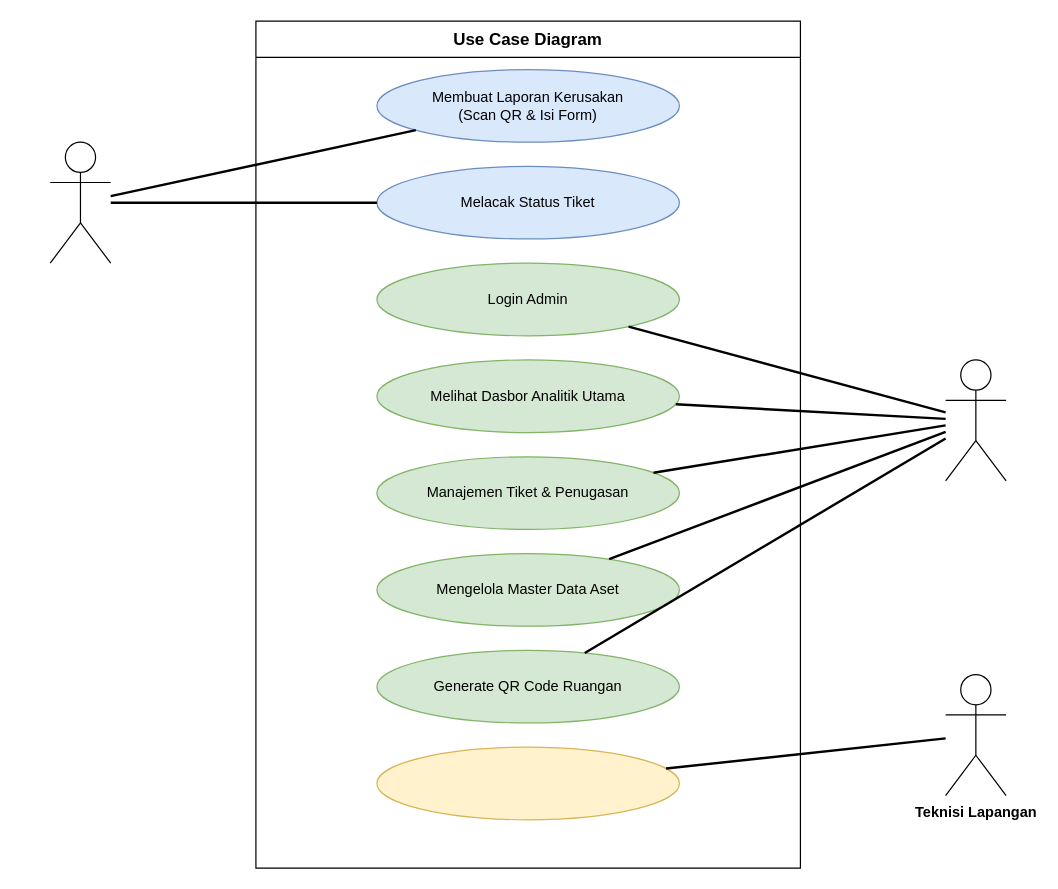
The diagram is 1058 pixels wide and 889 high, and some of its shapes have lost their labels. Each missing label, with the centre of its shape:
"Admin Sarpras" goes at pixel 975 420.
"Mahasiswa (Publik / Pelapor)" goes at pixel 80 202.
"Menerima Penugasan & Update Progres via Telegram" goes at pixel 527 783.
